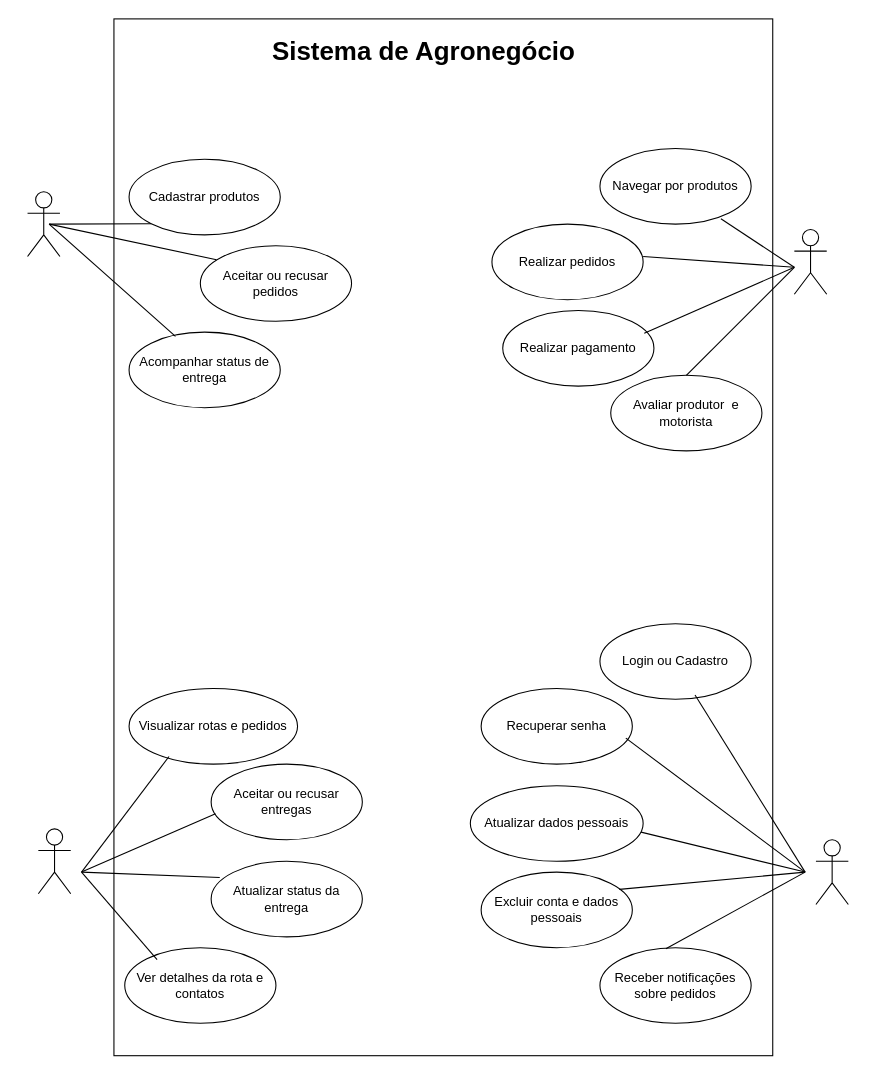
The diagram is 873 pixels wide and 1075 high, and some of its shapes have lost their labels. The shapes that lost their labels are listed below. From the top down, each one's centre as x and y in pixels, then its label:
(x=43, y=223): Produtor
(x=810, y=261): Cliente
(x=54, y=861): Motorista
(x=831, y=872): Usuário
